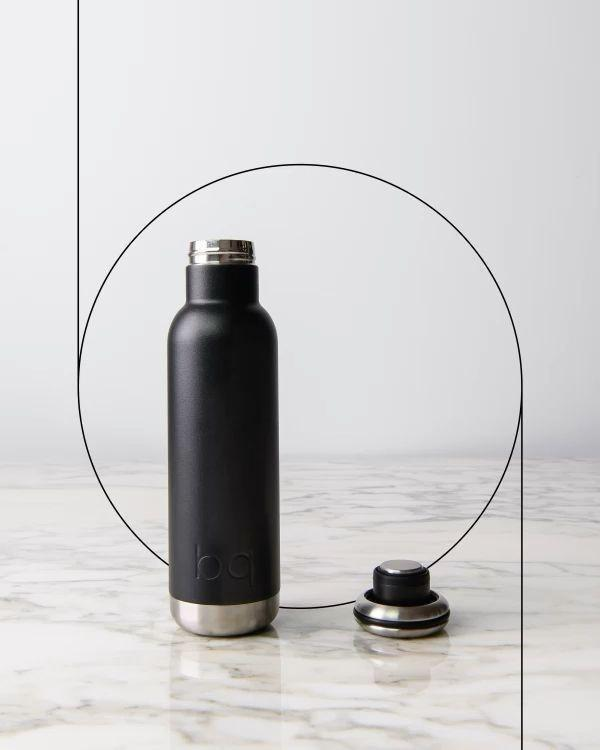gym bottle: (161, 232, 287, 643)
